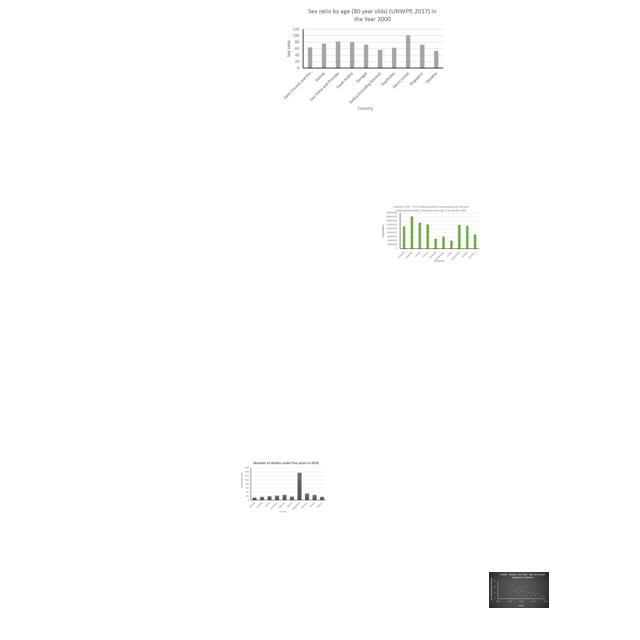Graph: (281, 5, 445, 113), (381, 204, 481, 263), (239, 459, 328, 516), (489, 572, 549, 608)
